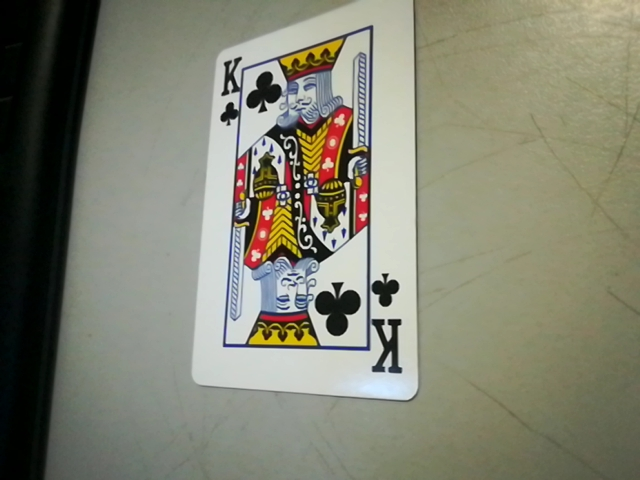mh k: (364, 265, 415, 392)
